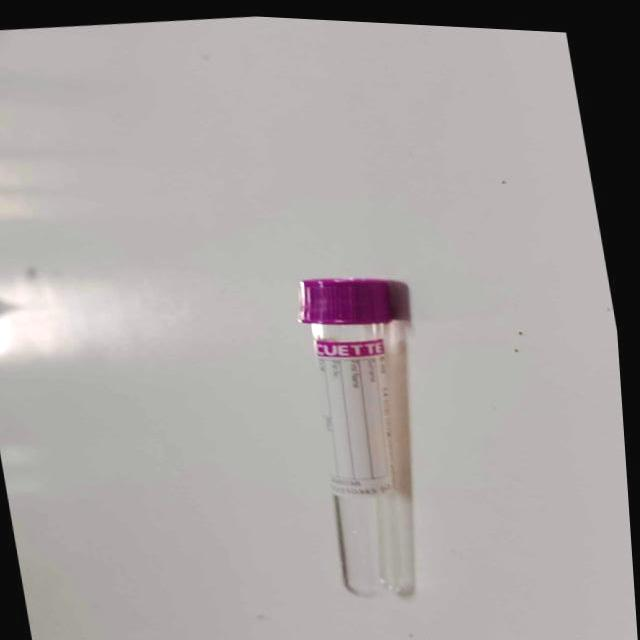Pathological: (0, 14, 636, 639)
Sharps: (295, 277, 415, 599)
